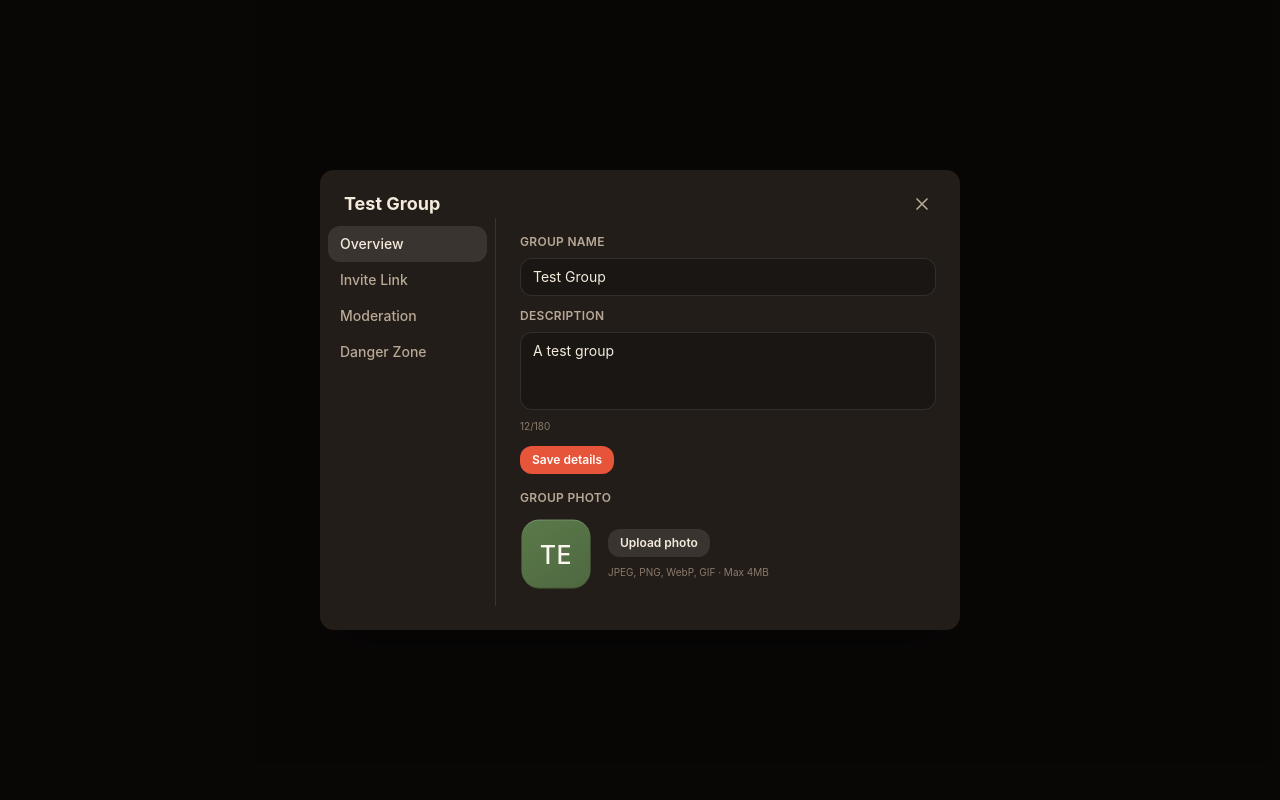
GroupSettingsModal › revokes managed invites
This screenshot has width=1280, height=800.
Click the button with test id "nav-invite" at (408, 280), box [328,262,487,298]
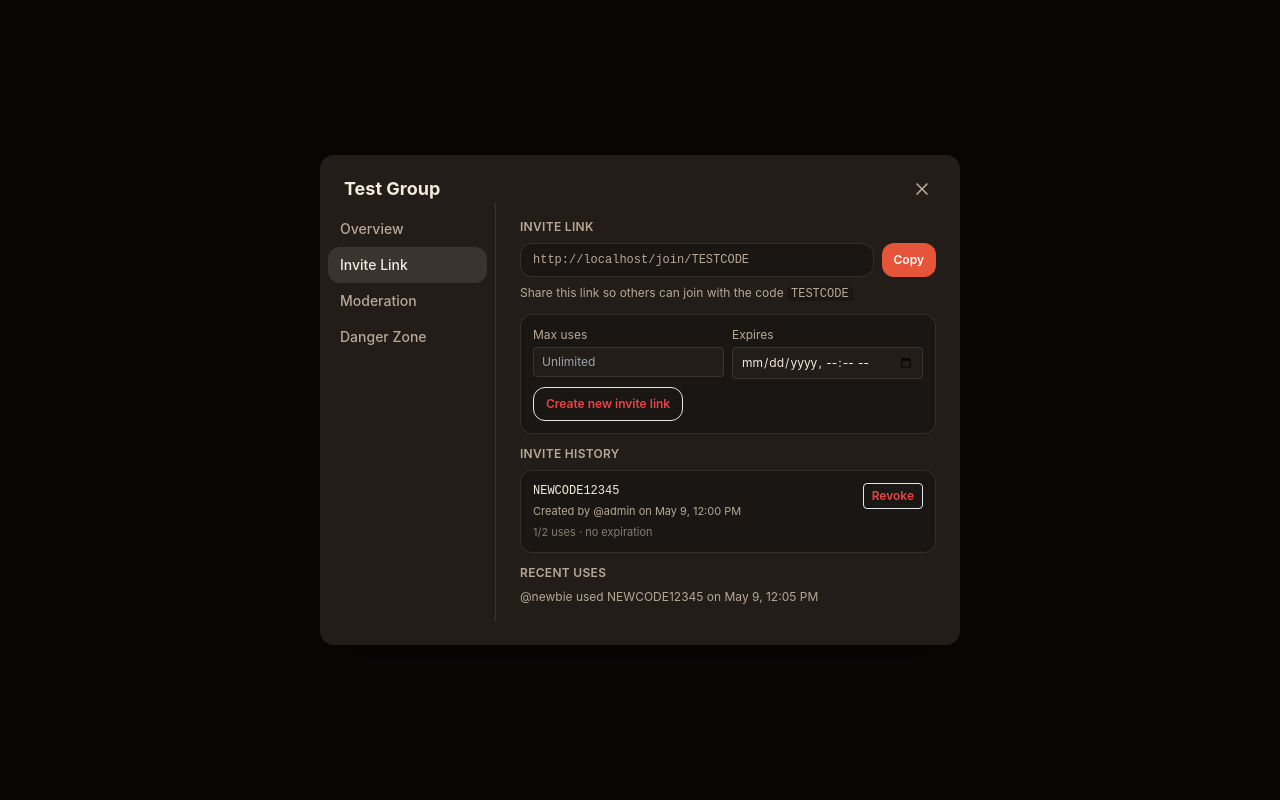
Click the button "Revoke" at (893, 496), box [863,483,923,509]
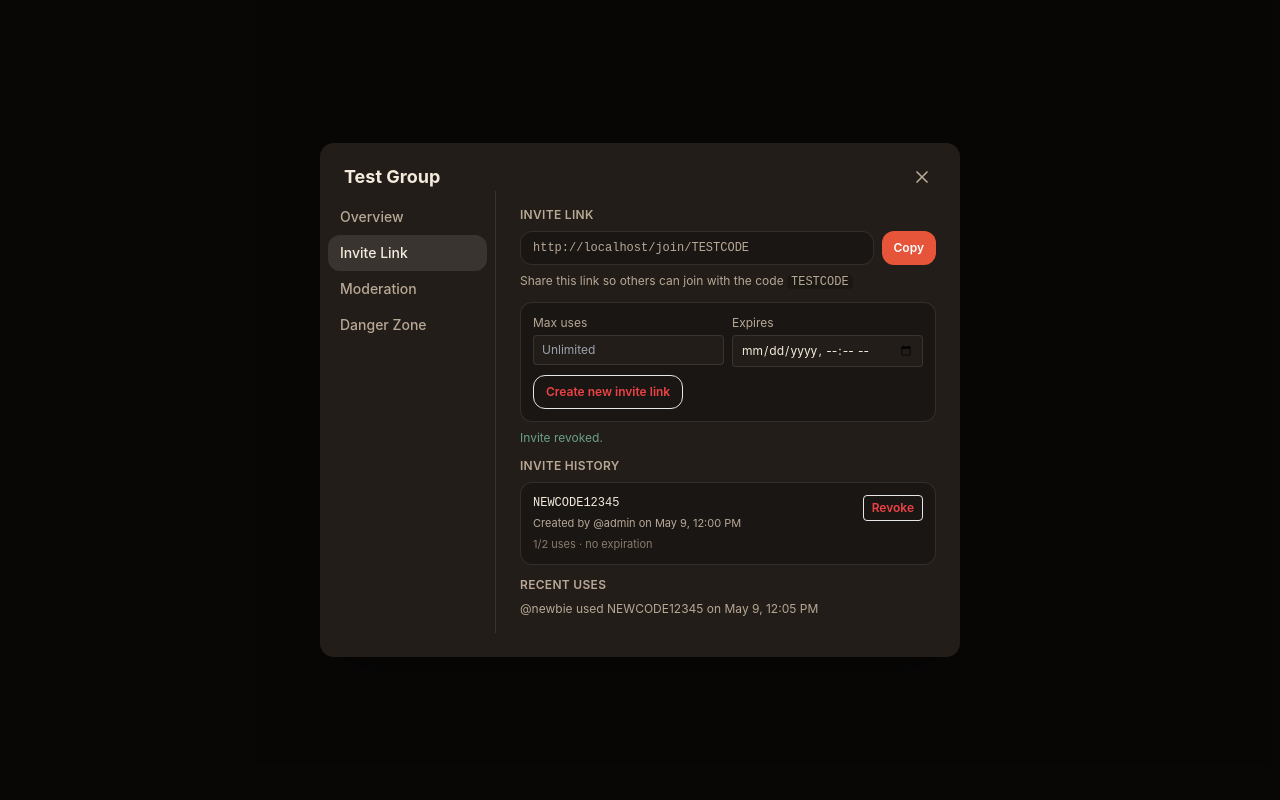
Expected: the text "Invite revoked." is shown, [520,430,603,445]
